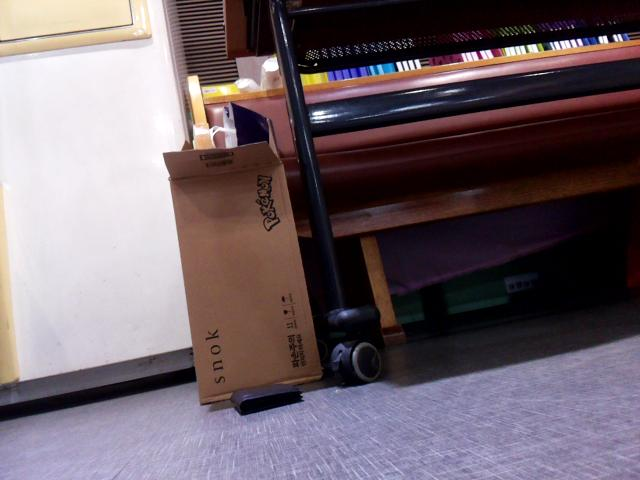wallet: (219, 373, 309, 425)
